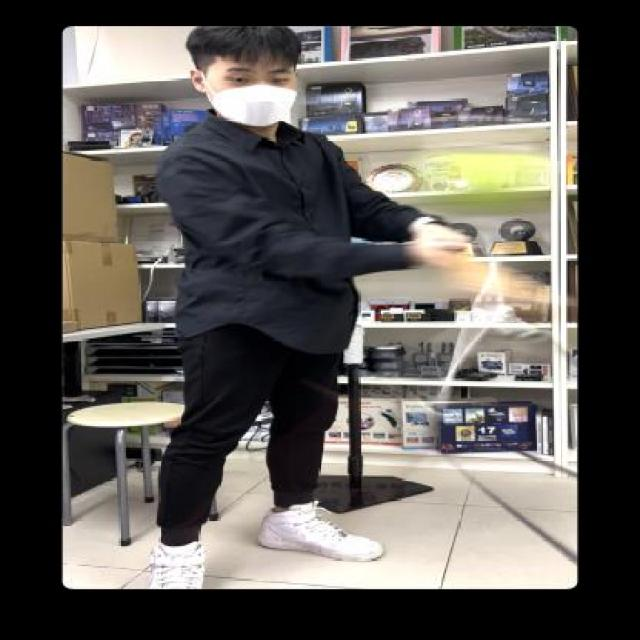baseball: (428, 150, 544, 216)
